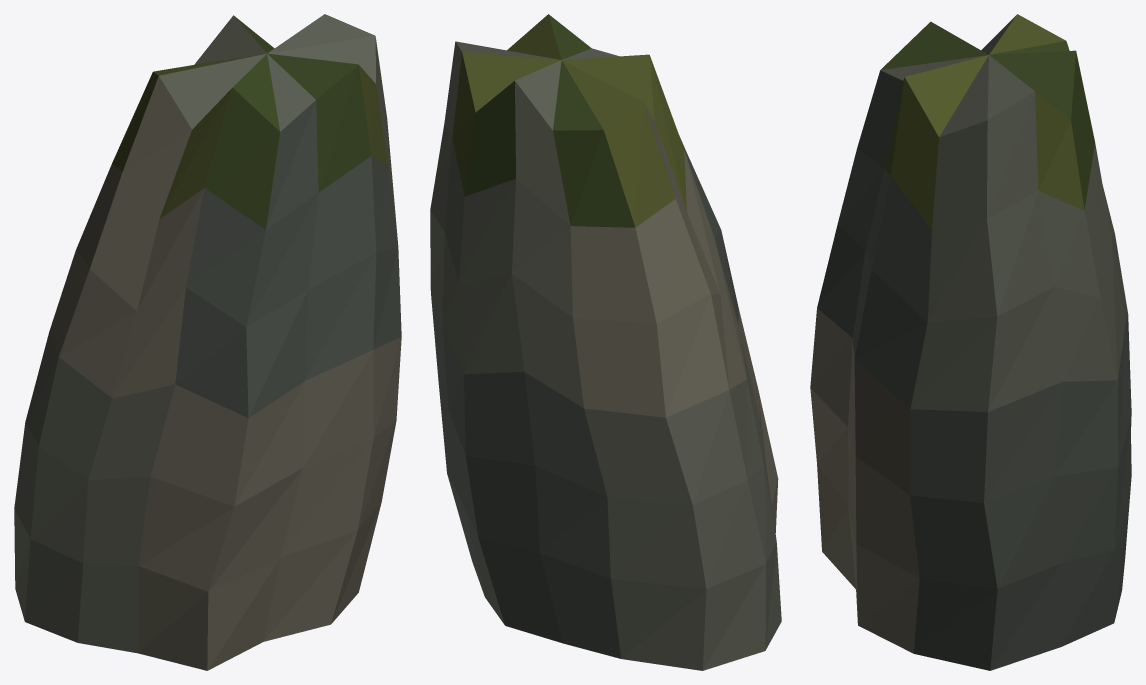
The model's file is Rock_Outcrop_01.fbx.
3 views of the same model, side by side, from view 1: azimuth 30°, elevation 25°; view 2: azimuth 150°, elevation 25°; view 3: azimuth 270°, elevation 25° (orthographic). The views are drawn at different scales.
Visible parts, largest first — view 1: Rock_Outcrop_01_LOD0.001; view 2: Rock_Outcrop_01_LOD0.001; view 3: Rock_Outcrop_01_LOD0.001.
Part boxes in pixels (bbox=[...]): Rock_Outcrop_01_LOD0.001: bbox=[14, 14, 401, 670]; Rock_Outcrop_01_LOD0.001: bbox=[430, 14, 781, 670]; Rock_Outcrop_01_LOD0.001: bbox=[810, 14, 1131, 670].
Size of what is drawn, in the model's own units: 3.11 by 4.46 by 2.25.
